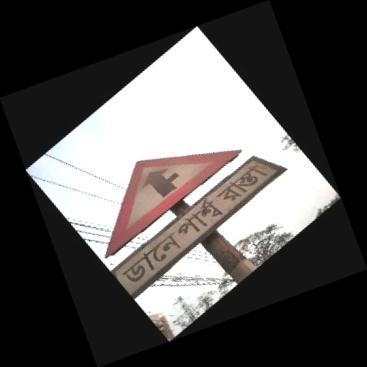Side-road-right: (105, 150, 279, 303)
